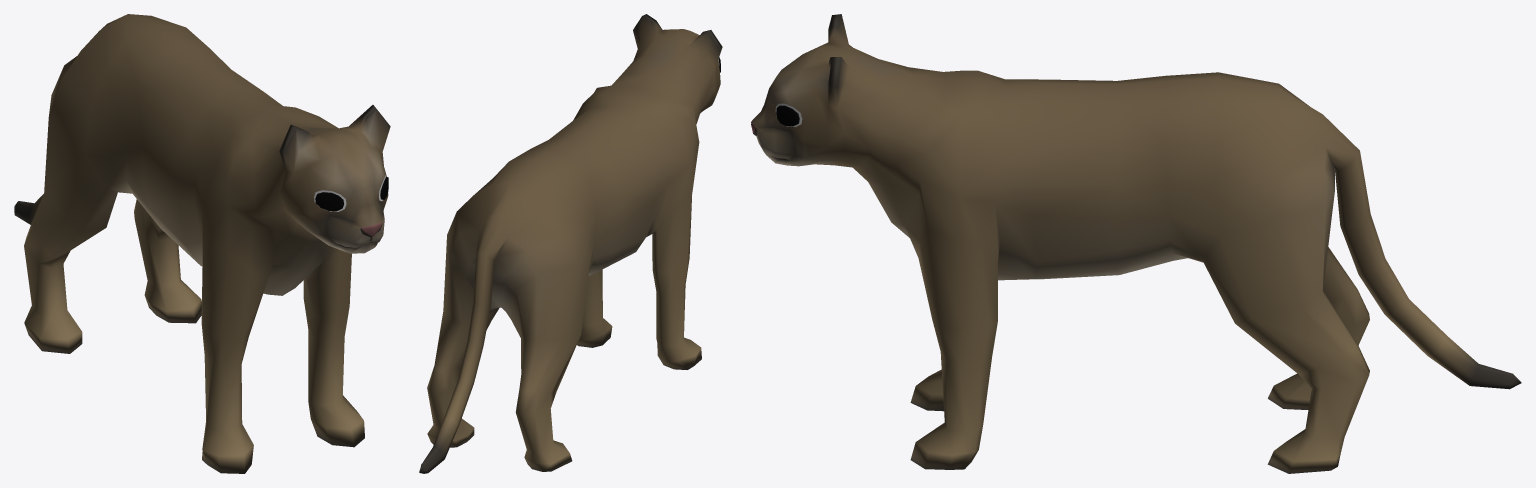
File: animals-animals-mountainlion_v1.glb
The picture shows the model from 3 angles, left to right: view 1: azimuth 30°, elevation 25°; view 2: azimuth 150°, elevation 25°; view 3: azimuth 270°, elevation 25°; orthographic projection. The views are drawn at different scales.
Visible parts, largest first — view 1: MountainLion.001; view 2: MountainLion.001; view 3: MountainLion.001.
Boxes of the visible parts, x1,y1,x2,y2 form: MountainLion.001: (14, 14, 390, 473); MountainLion.001: (419, 14, 722, 473); MountainLion.001: (751, 14, 1521, 473).
Size of the model in its own units: 0.4633 by 1.01 by 1.78.
